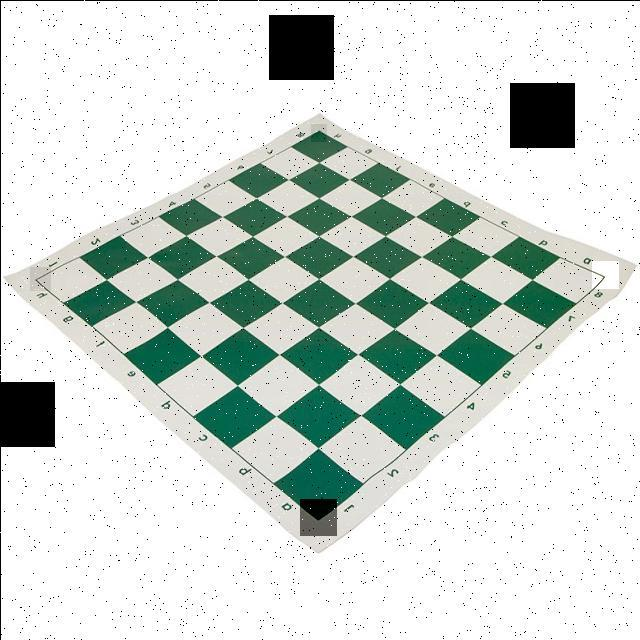chess-table-corners: (299, 498, 336, 535), (591, 260, 618, 288), (29, 266, 50, 290), (310, 123, 326, 141)
